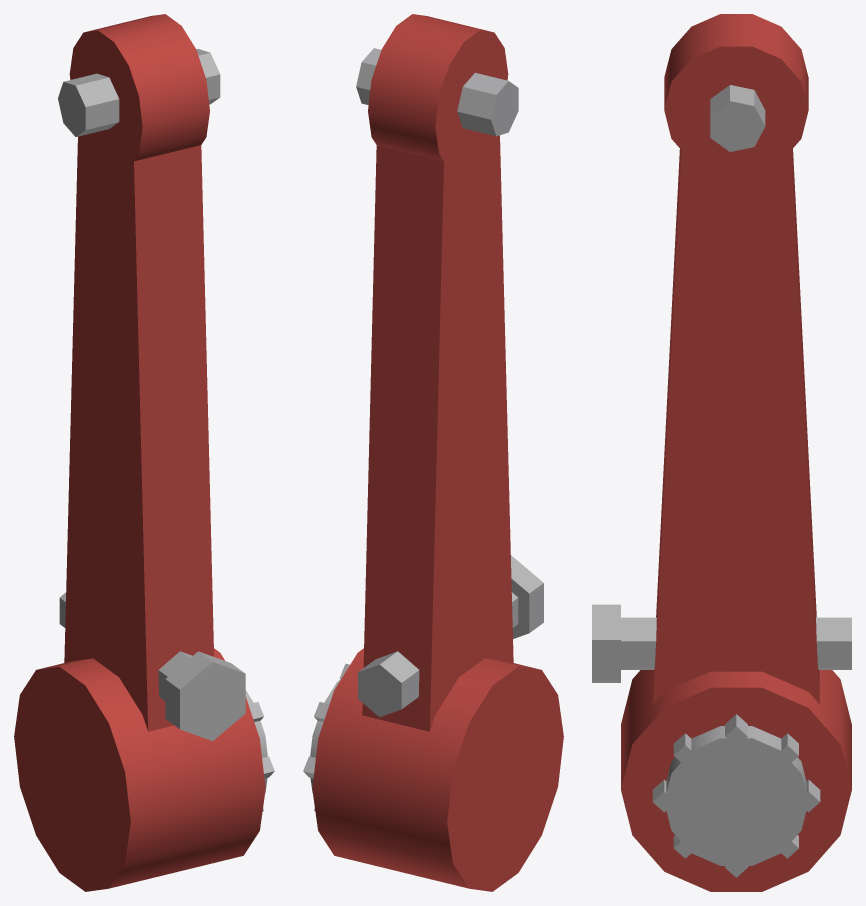
Rendered from drum_arm.glb.
3 renders of one model, left to right at view 1: azimuth 30°, elevation 25°; view 2: azimuth 150°, elevation 25°; view 3: azimuth 270°, elevation 25°, orthographic.
Visible parts, largest first — view 1: lod0; view 2: lod0; view 3: lod0.
Part boxes in pixels (x1,y1,x2,y2): lod0: [14, 14, 274, 891]; lod0: [303, 14, 563, 891]; lod0: [592, 14, 851, 891].
Size of what is drawn, in the model's own units: 0.019 by 0.095 by 0.027.
